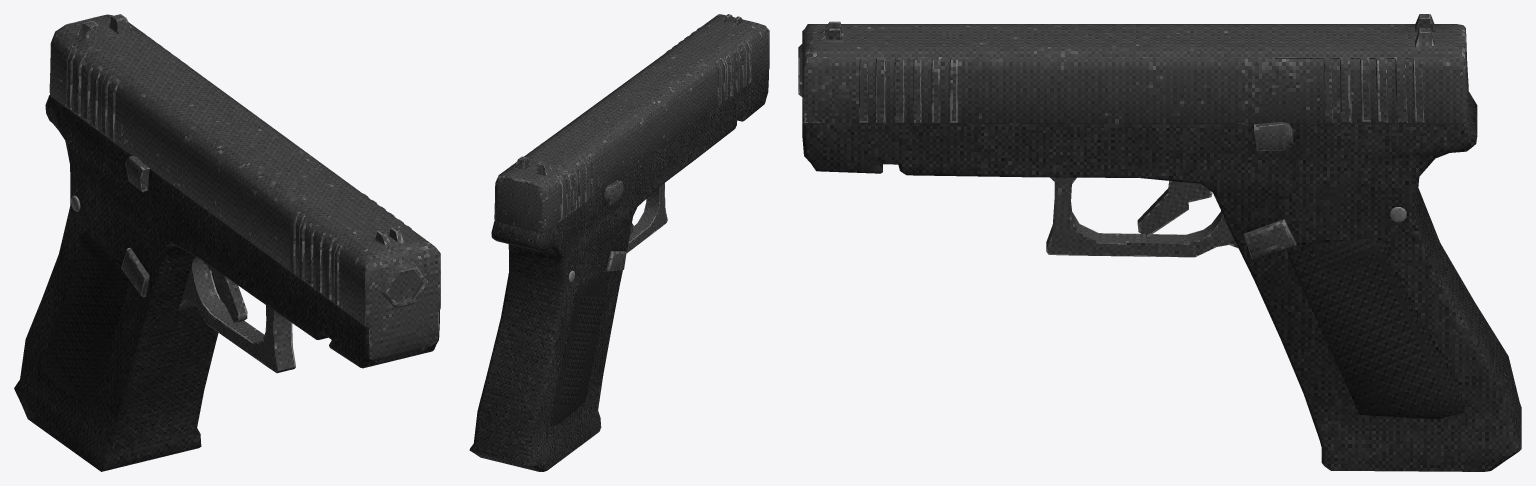
File: pistol.glb
The picture shows the model from 3 angles, left to right: view 1: azimuth 30°, elevation 25°; view 2: azimuth 150°, elevation 25°; view 3: azimuth 270°, elevation 25°; orthographic projection. The views are drawn at different scales.
Parts seen in each view (by area): view 1: pistol; view 2: pistol; view 3: pistol.
Boxes of the visible parts, <box> form: pistol: <box>14,14,440,471</box>; pistol: <box>469,14,769,471</box>; pistol: <box>798,14,1521,471</box>.
Size of the model in its own units: 0.0324 by 0.1292 by 0.1999.
1 material, 1 textured.
